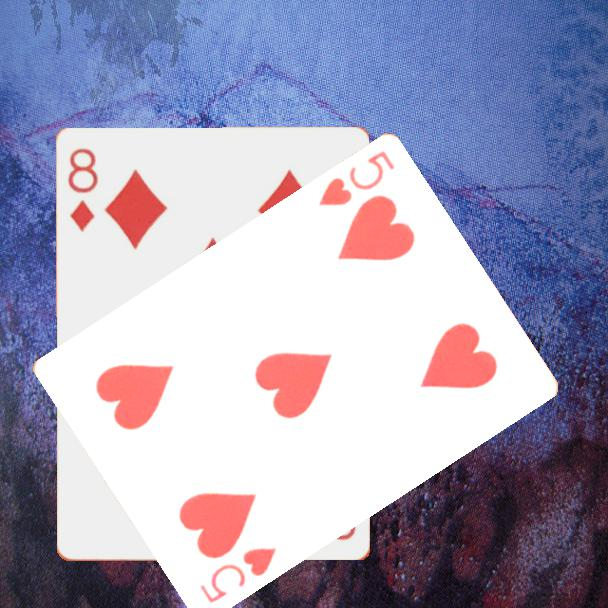d08: (64, 145, 101, 235)
h05: (196, 544, 279, 607), (314, 148, 398, 210)
